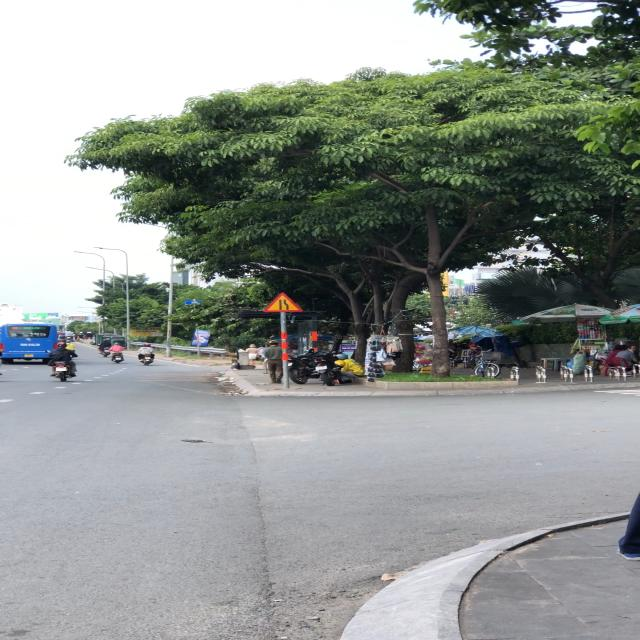Bien bao duong bi thu hep: (260, 292, 306, 312)
